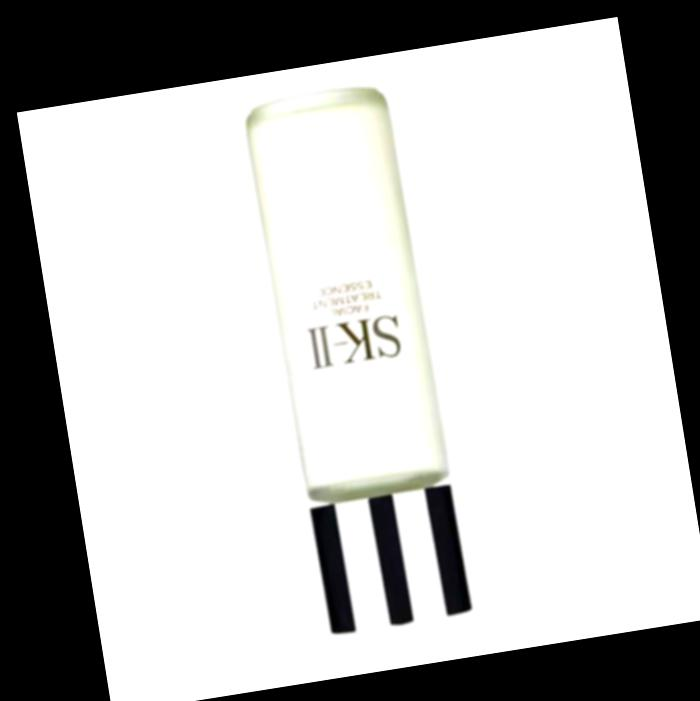cosmetic: (236, 78, 474, 634)
